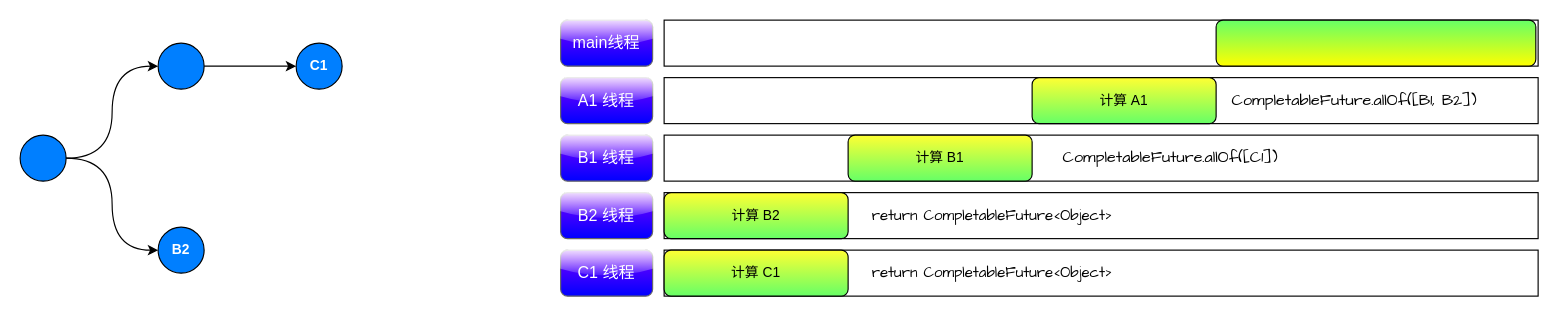
The diagram is 1558 pixels wide and 316 high, and some of its shapes have lost their labels. The centre of each missing label's shape, as x and y in pixels:
"A1" belongs at (x=42, y=157).
"B1" belongs at (x=180, y=65).
"合并结果" belongs at (x=1375, y=42).
